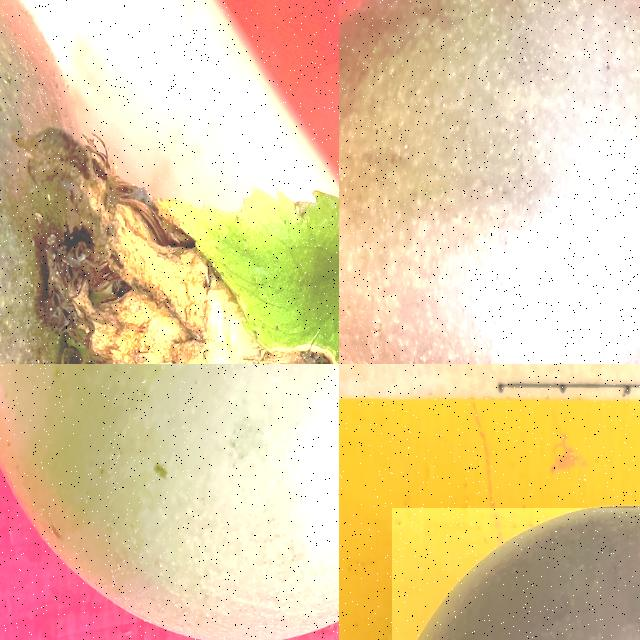Estado-3: (339, 0, 640, 364)
Estado-5: (421, 508, 640, 640)
